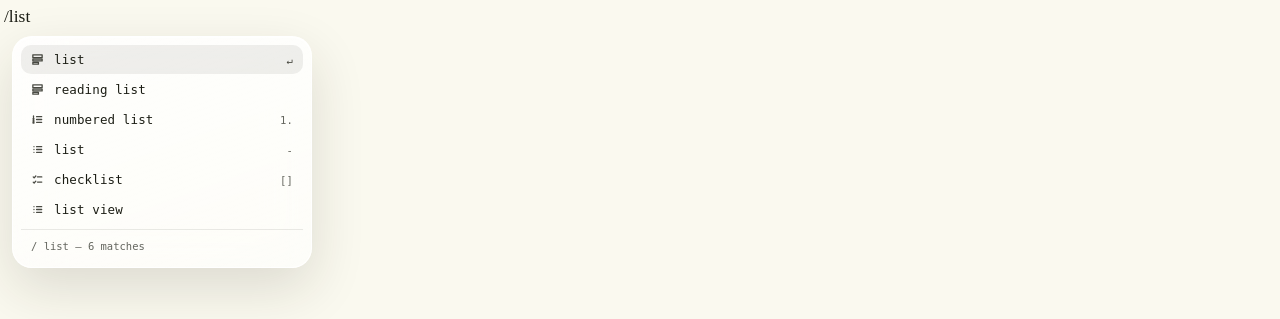
it: KAN-355 — a checklist grows and shrinks by hand, on the real BlockCanvas › /list ↵ and /checklist ↵ land the caret in the new item, not <body> (fix KAN-355, PATH step 1)
Check: the list named "blocks" is shown, box x1=21 y1=45 x2=303 y2=224
Click the option "list -".
click(69, 150)  # box x1=31 y1=142 x2=293 y2=157
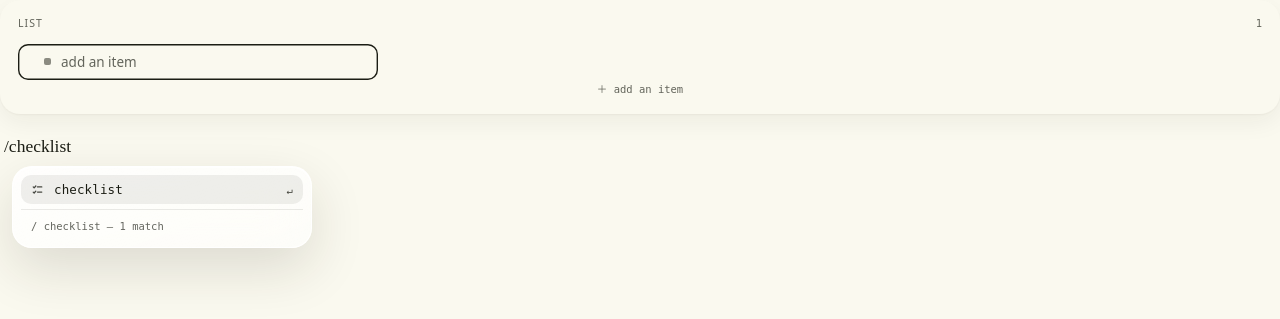
Click the option "checklist ↵".
click(88, 189)  # box x1=21 y1=174 x2=303 y2=204
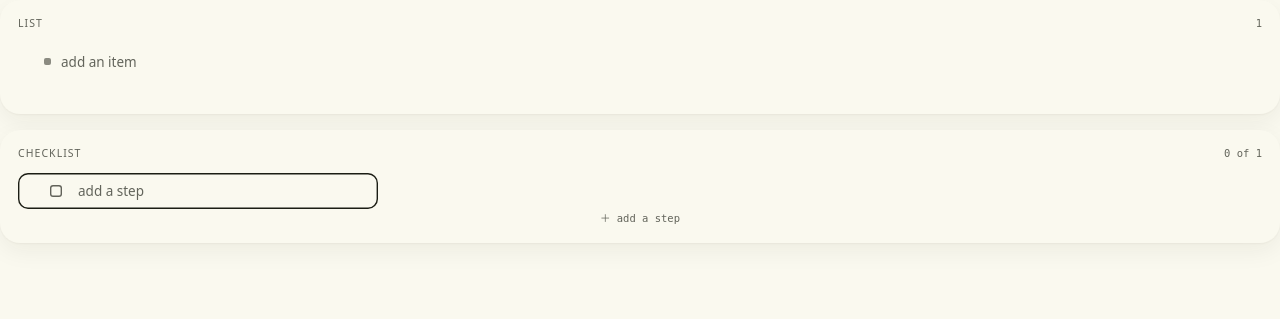
Check: the list is gone
